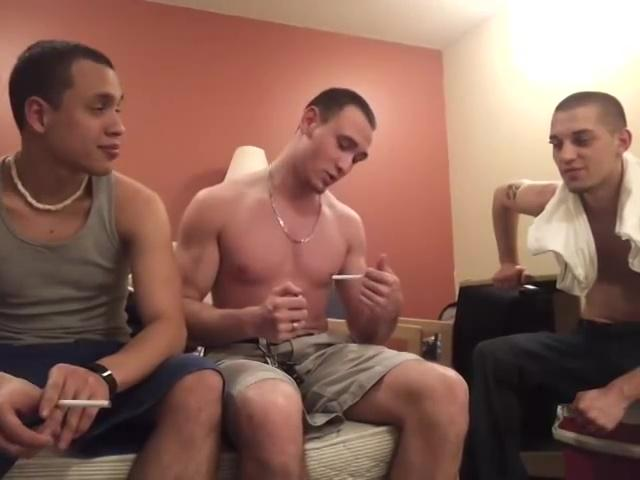cigarette: (54, 396, 113, 412), (331, 273, 369, 282)
